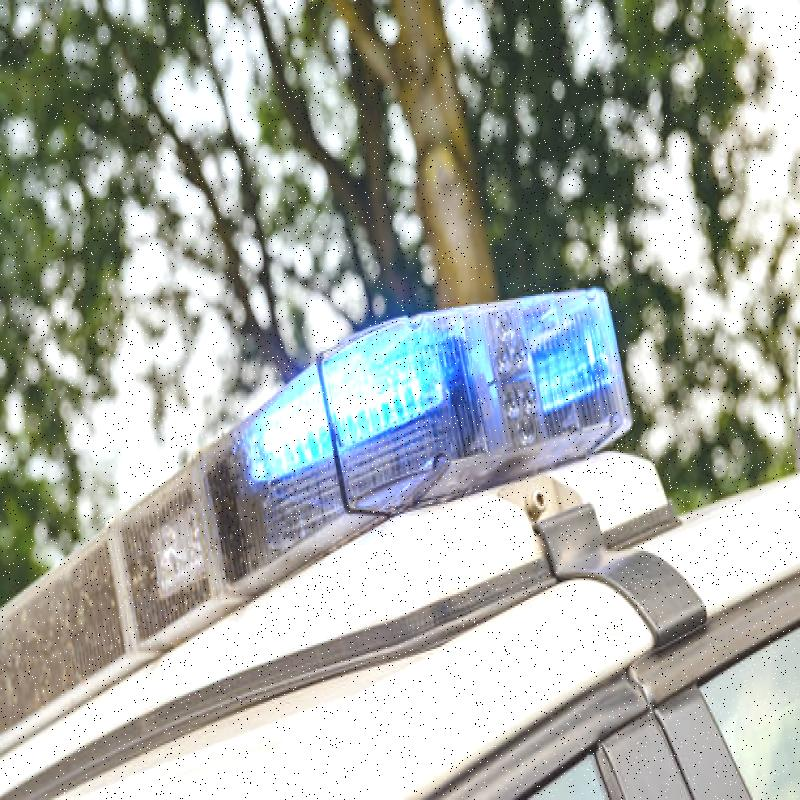AmbulanceSiren: (0, 273, 629, 698)
